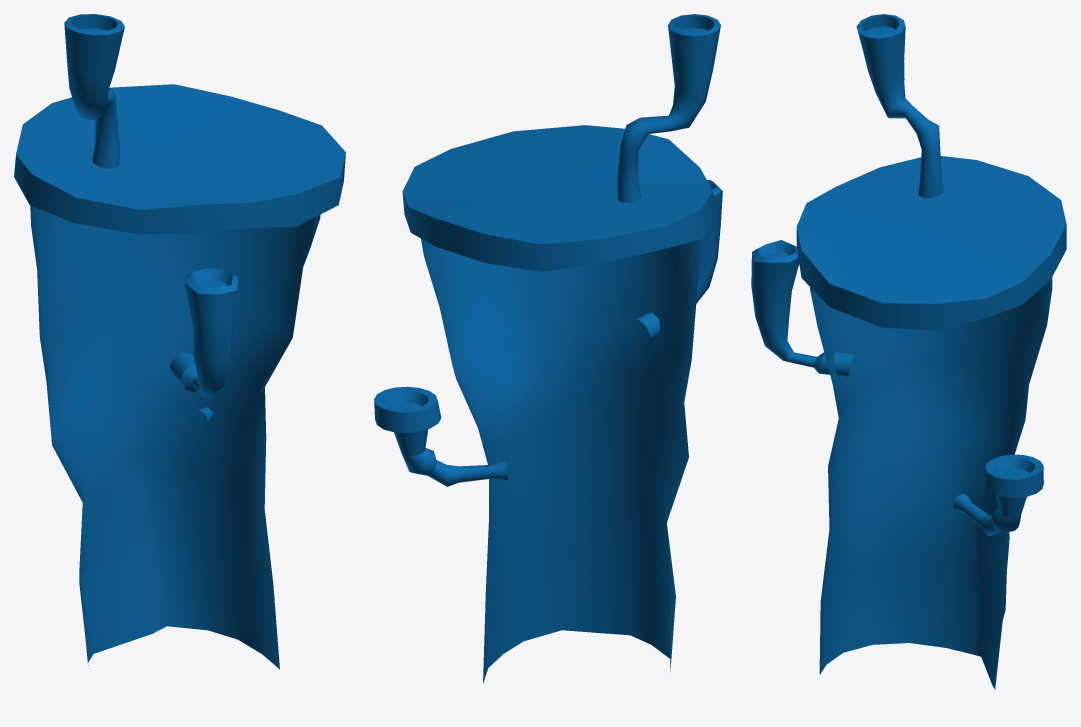
3 views of the same model, side by side, from view 1: azimuth 30°, elevation 25°; view 2: azimuth 150°, elevation 25°; view 3: azimuth 270°, elevation 25° (orthographic). The views are drawn at different scales.
Visible parts, largest first — view 1: Object_12; view 2: Object_12; view 3: Object_12.
Boxes of the visible parts, left/top/right/bottom form: Object_12: left=14, top=14, right=345, bottom=669; Object_12: left=374, top=14, right=722, bottom=683; Object_12: left=751, top=14, right=1066, bottom=689.
Size of the model in its own units: 25.8 by 57.51 by 26.9.
